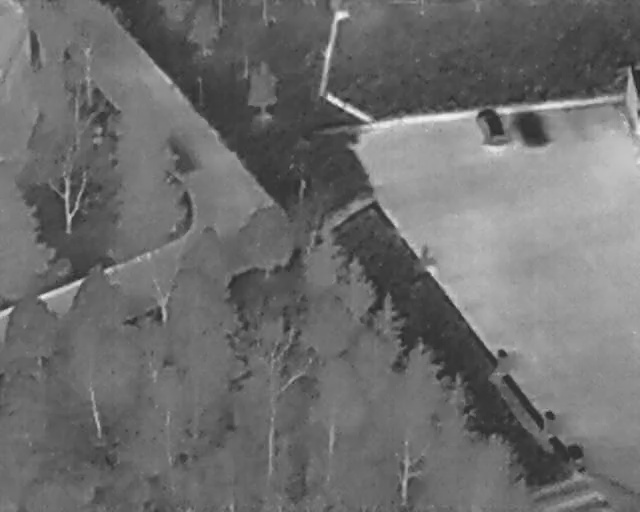Car: (472, 103, 512, 151)
